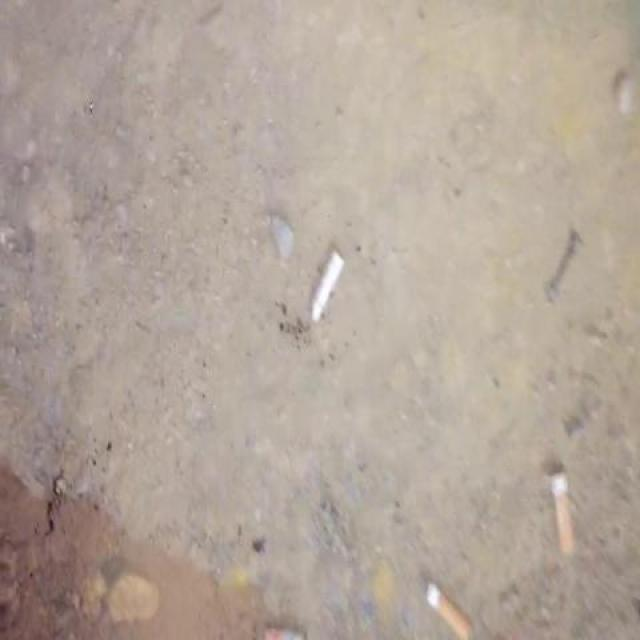non-organic waste: (301, 241, 351, 326), (543, 464, 581, 561), (419, 579, 481, 638)
